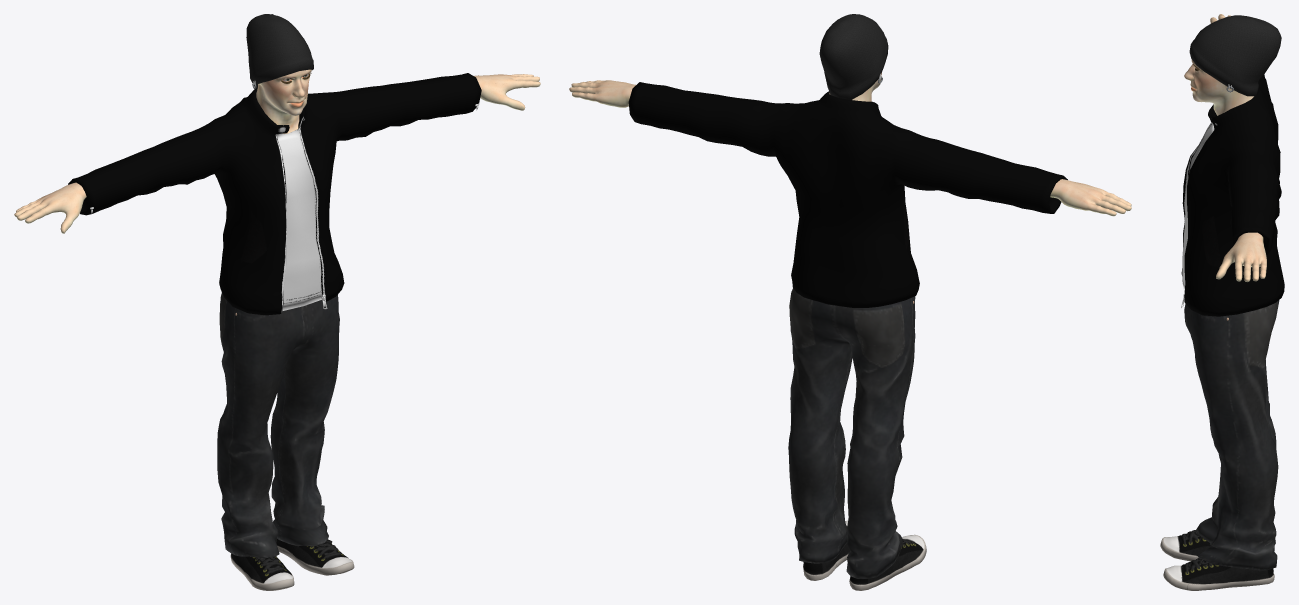
File: eugene.obj
3 renders of one model, left to right at view 1: azimuth 30°, elevation 25°; view 2: azimuth 150°, elevation 25°; view 3: azimuth 270°, elevation 25°, orthographic. The views are drawn at different scales.
Visible parts, largest first — view 1: Tops, Bottoms, Body, Hats, Shoes; view 2: Tops, Bottoms, Hats, Body, Shoes; view 3: Tops, Bottoms, Hats, Shoes, Body.
Boxes of the visible parts, box(x1,y1,x2,y2) form: Tops: box(68, 73, 481, 315); Bottoms: box(217, 292, 339, 558); Body: box(14, 69, 540, 233); Hats: box(246, 14, 313, 88); Shoes: box(230, 538, 354, 590); Tops: box(628, 82, 1067, 307); Bottoms: box(788, 288, 915, 578); Hats: box(819, 14, 888, 99); Body: box(569, 72, 1131, 216); Shoes: box(803, 520, 926, 590); Tops: box(1181, 74, 1284, 316); Bottoms: box(1184, 300, 1279, 570); Hats: box(1189, 15, 1281, 96); Shoes: box(1160, 530, 1274, 590); Body: box(1184, 14, 1266, 281).
Size of the model in its own units: 190 by 184 by 37.66.
Materials: 2 (2 with a texture image).
